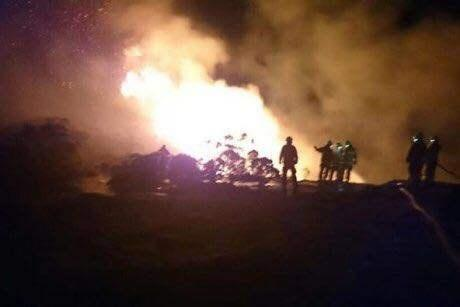fire: (129, 46, 311, 185)
